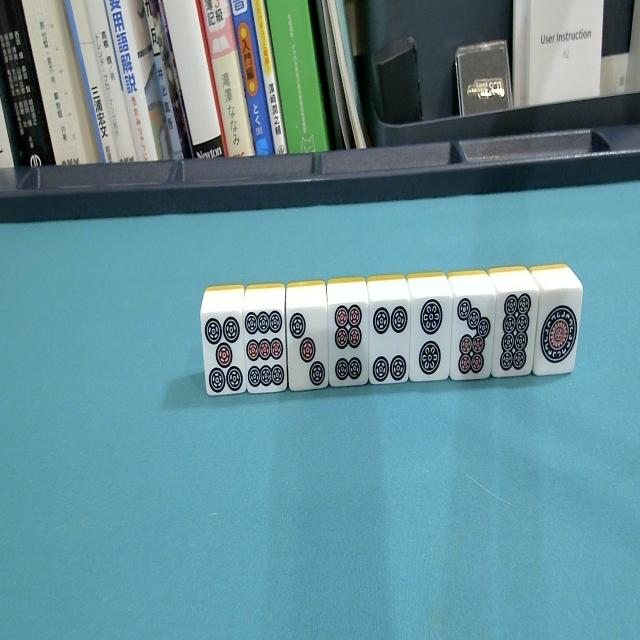1_pin: (528, 260, 584, 390)
2_pin: (405, 266, 456, 398)
3_pin: (282, 277, 332, 405)
4_pin: (364, 268, 414, 401)
5_pin: (199, 282, 249, 406)
6_pin: (325, 272, 373, 400)
7_pin: (446, 265, 496, 399)
8_pin: (486, 262, 539, 392)
9_pin: (242, 280, 290, 406)
